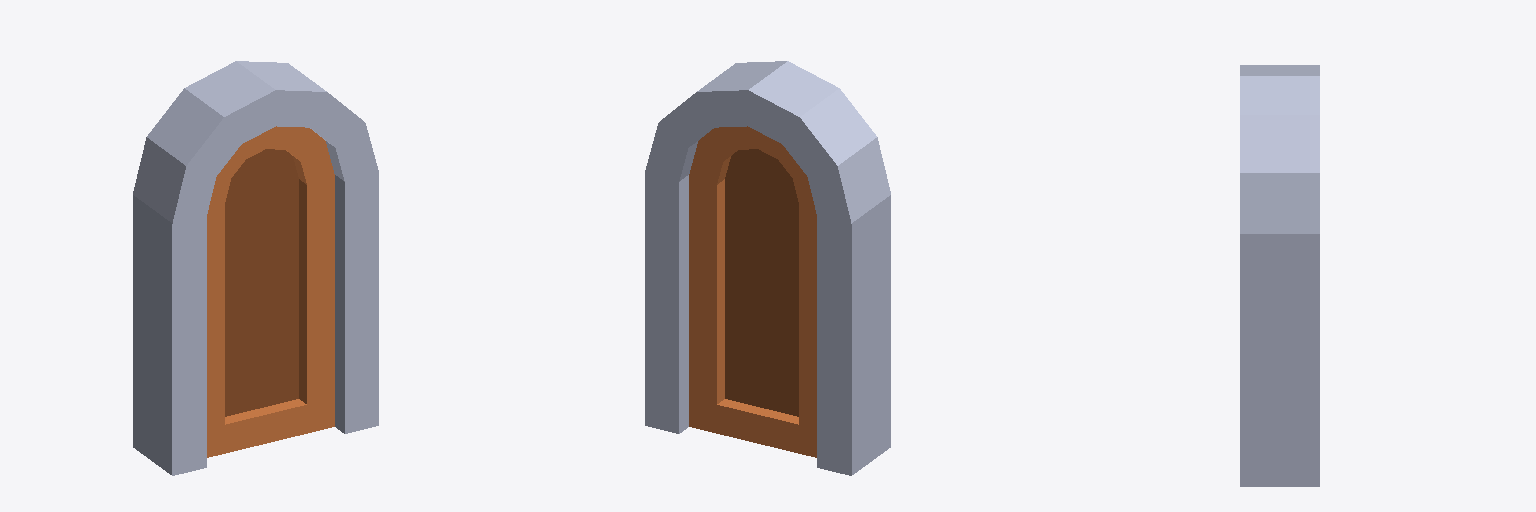
Rendered from doorClosed.obj.
The picture shows the model from 3 angles: view 1: azimuth 30°, elevation 25°; view 2: azimuth 150°, elevation 25°; view 3: azimuth 270°, elevation 25°; orthographic projection.
Visible parts, largest first — view 1: doorClosed; view 2: doorClosed; view 3: doorClosed.
Boxes of the visible parts, x1,y1,x2,y2 form: doorClosed: [133, 61, 378, 475]; doorClosed: [645, 61, 890, 475]; doorClosed: [1240, 65, 1319, 486].
Size of the model in its own units: 0.6 by 1 by 0.2.